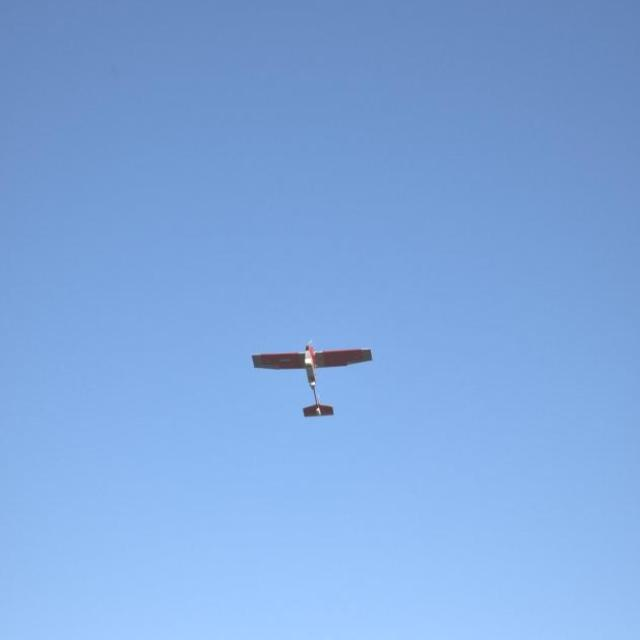plane: (250, 340, 373, 418)
